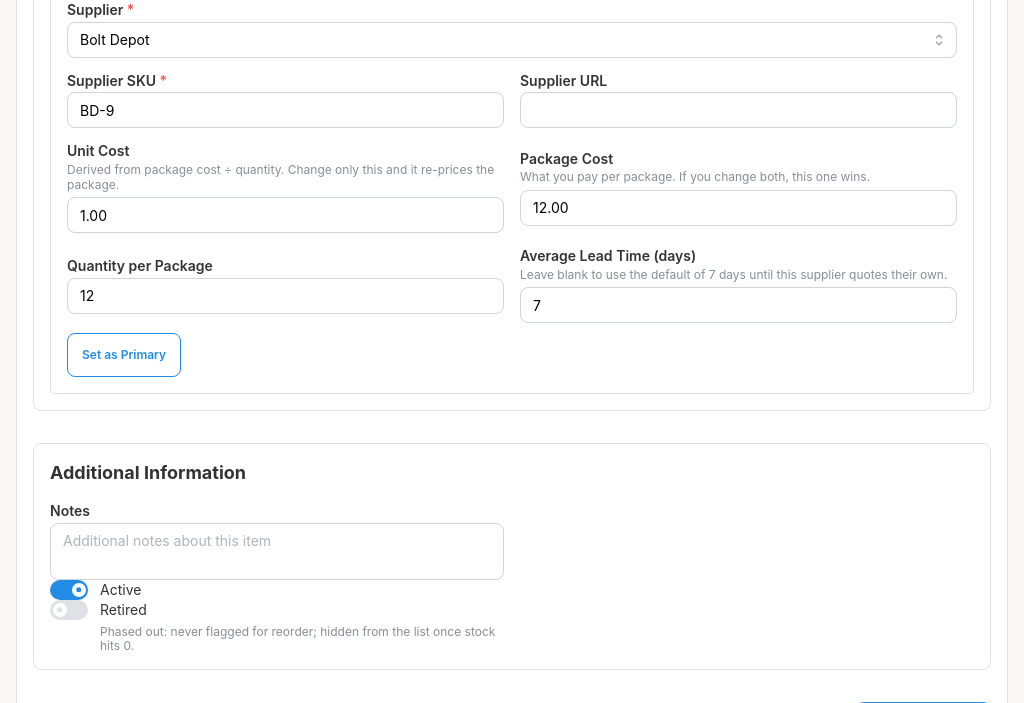
InventoryItemFormPage — supplier relationships › promoting a supplier to primary › does not adopt a demoted row someone else also changed, so that write is refused
(page scrolled)
expect the field showing "BD-9" is shown: met, box [67, 92, 504, 128]
Step 1. Click the button "Set as Primary" → [124, 355], box [67, 333, 181, 377]
(page scrolled)
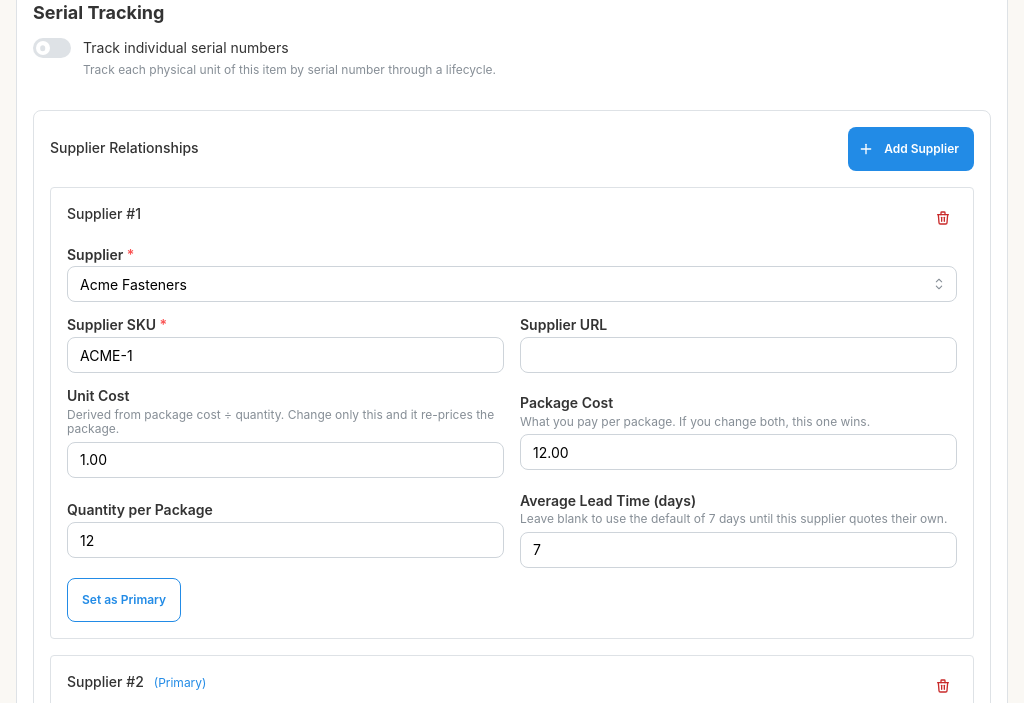
Step 2. Replace the text in the field showing "ACME-1" with "ACME-2" → [286, 355], box [67, 337, 504, 373]
(page scrolled)
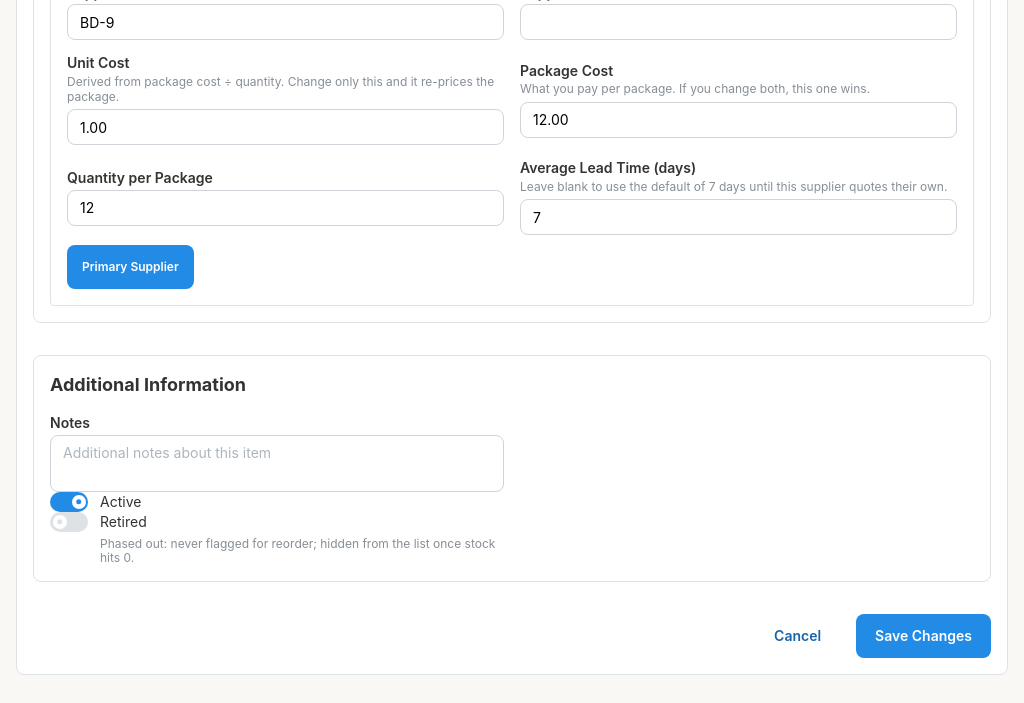
Step 3. Click the button "Save Changes" → [924, 636], box [856, 614, 991, 658]
(page scrolled)
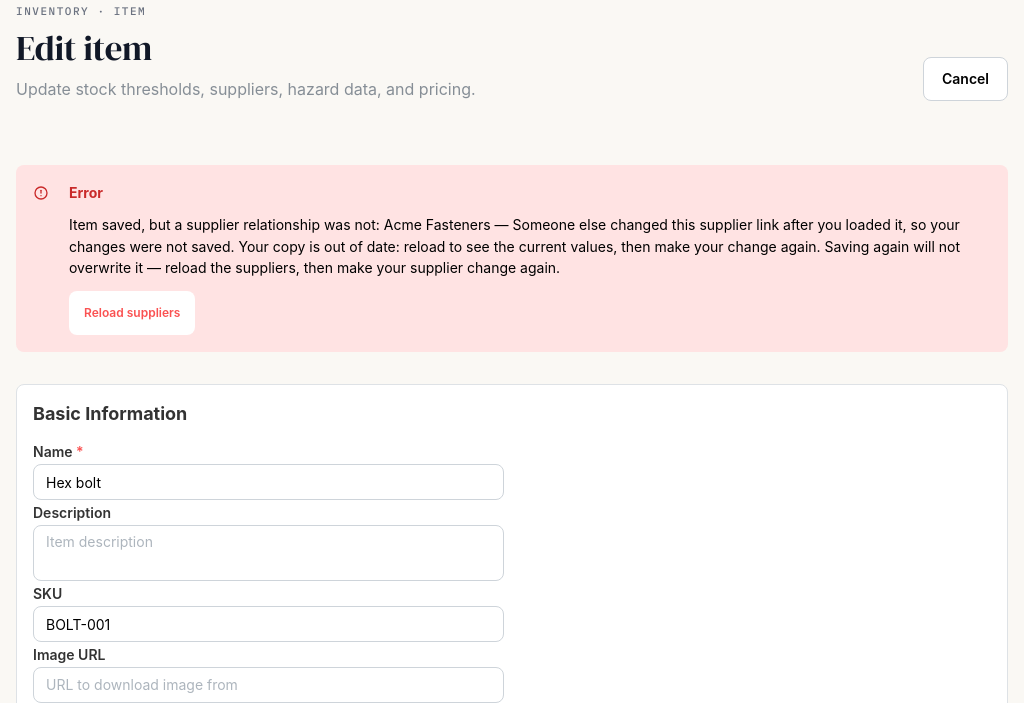
expect the text "Your copy is out of date" is shown: met, box [69, 216, 960, 276]
